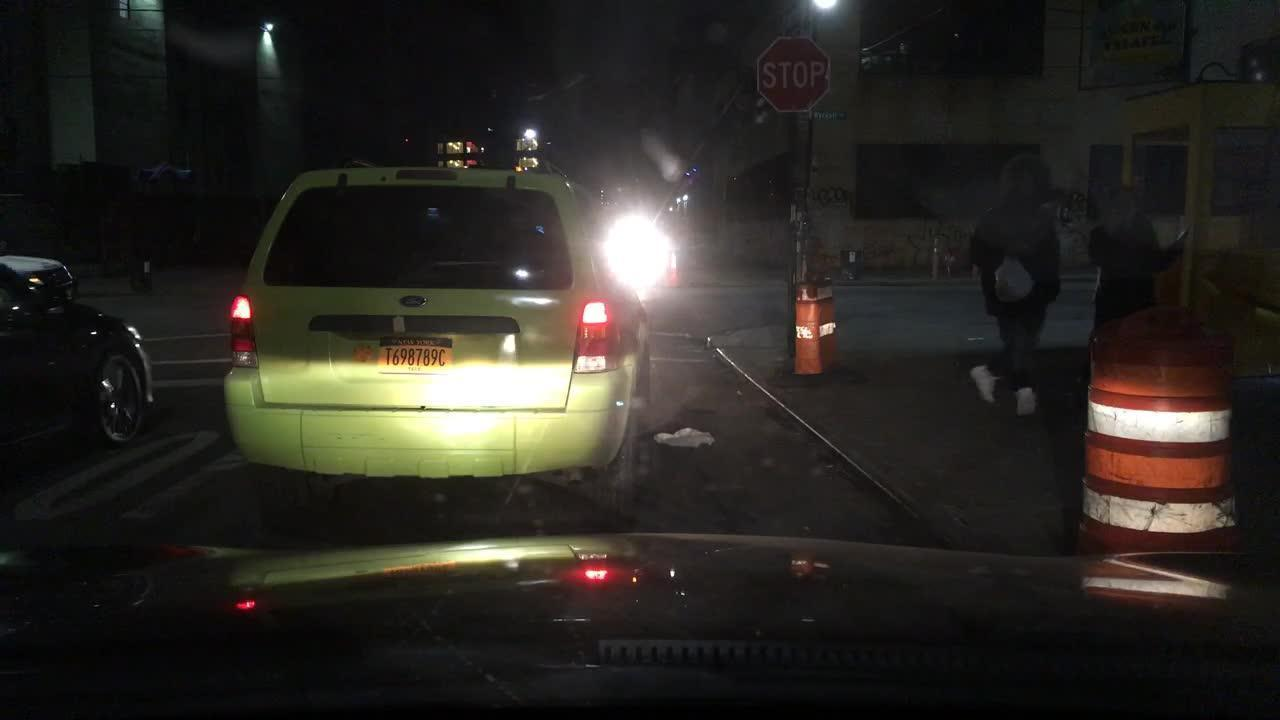ford: (396, 292, 431, 311)
